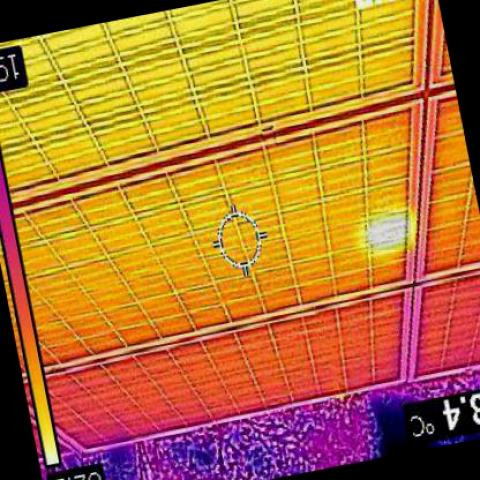fault: (368, 212, 411, 250)
